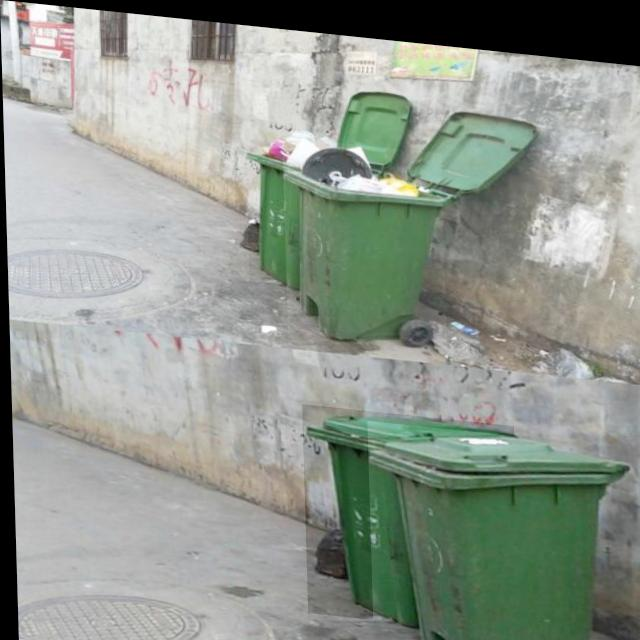garbage_bin: (365, 414, 632, 640), (300, 398, 517, 624)
overflow: (282, 131, 445, 339), (244, 118, 316, 284)
